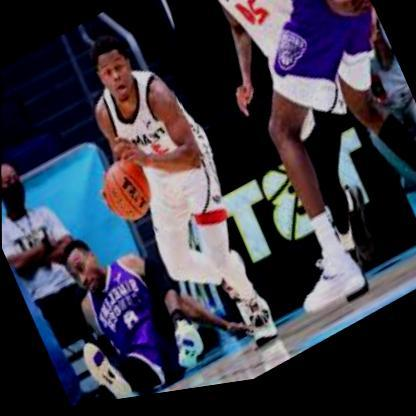basketball: (96, 152, 160, 236)
